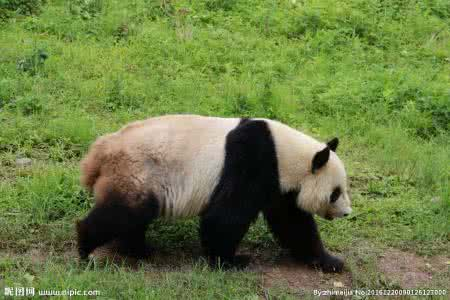panda: (69, 113, 354, 274)
